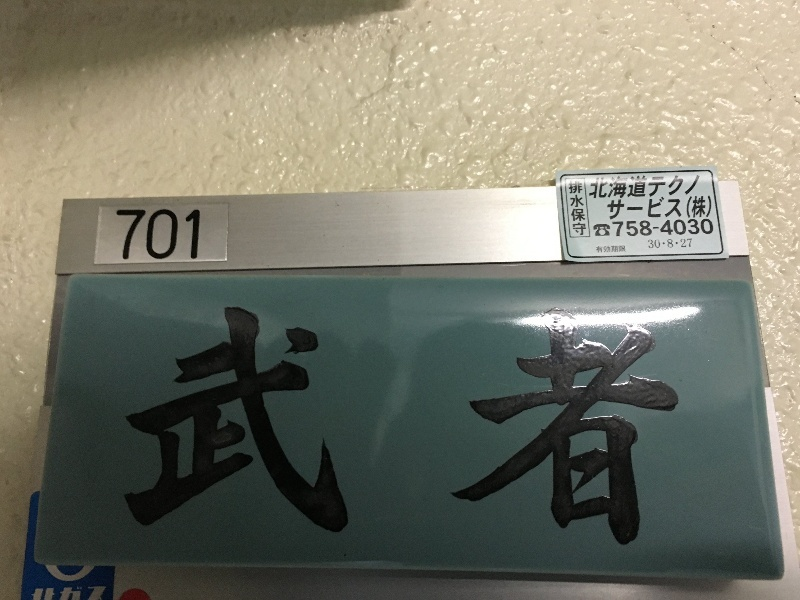text: (145, 308, 160, 550), (161, 308, 176, 550), (177, 308, 192, 550), (193, 308, 208, 550), (209, 308, 224, 550), (225, 308, 240, 550), (241, 308, 256, 550), (257, 308, 272, 550), (273, 308, 288, 550), (289, 308, 304, 550), (305, 308, 320, 550), (321, 308, 336, 550), (337, 308, 352, 550), (353, 308, 368, 550), (369, 308, 384, 550), (385, 308, 400, 550), (401, 308, 416, 550), (417, 308, 432, 550), (433, 308, 448, 550), (449, 308, 464, 550), (465, 308, 480, 550), (481, 308, 496, 550), (497, 308, 512, 550), (513, 308, 528, 550), (529, 308, 544, 550), (545, 308, 560, 550), (561, 308, 576, 550), (577, 308, 592, 550), (593, 308, 608, 550), (609, 308, 624, 550), (625, 308, 640, 550), (641, 308, 656, 550), (657, 308, 672, 550), (673, 308, 686, 550), (137, 308, 144, 550), (129, 210, 144, 261), (145, 210, 160, 261), (161, 210, 176, 261), (177, 210, 192, 261), (577, 180, 588, 237), (116, 210, 128, 261), (567, 180, 576, 237), (193, 210, 201, 261), (593, 174, 608, 200), (609, 174, 624, 200), (625, 174, 640, 200), (641, 174, 656, 200), (657, 174, 672, 200), (673, 174, 688, 200), (609, 195, 624, 220), (625, 195, 640, 220), (641, 195, 656, 220), (657, 195, 672, 220), (673, 195, 688, 220), (689, 195, 704, 220), (689, 174, 701, 200), (625, 219, 640, 236), (641, 219, 656, 236), (657, 219, 672, 236), (673, 219, 688, 236), (689, 219, 704, 236), (33, 586, 48, 600), (49, 586, 64, 600), (65, 586, 80, 600), (81, 586, 96, 600), (612, 219, 624, 236), (705, 195, 713, 220), (705, 219, 715, 236), (657, 239, 672, 249), (673, 239, 688, 249), (97, 586, 107, 600), (609, 247, 624, 254), (595, 247, 608, 254), (648, 239, 656, 249), (590, 174, 592, 200), (689, 239, 693, 249), (607, 195, 608, 220), (625, 247, 627, 254)
